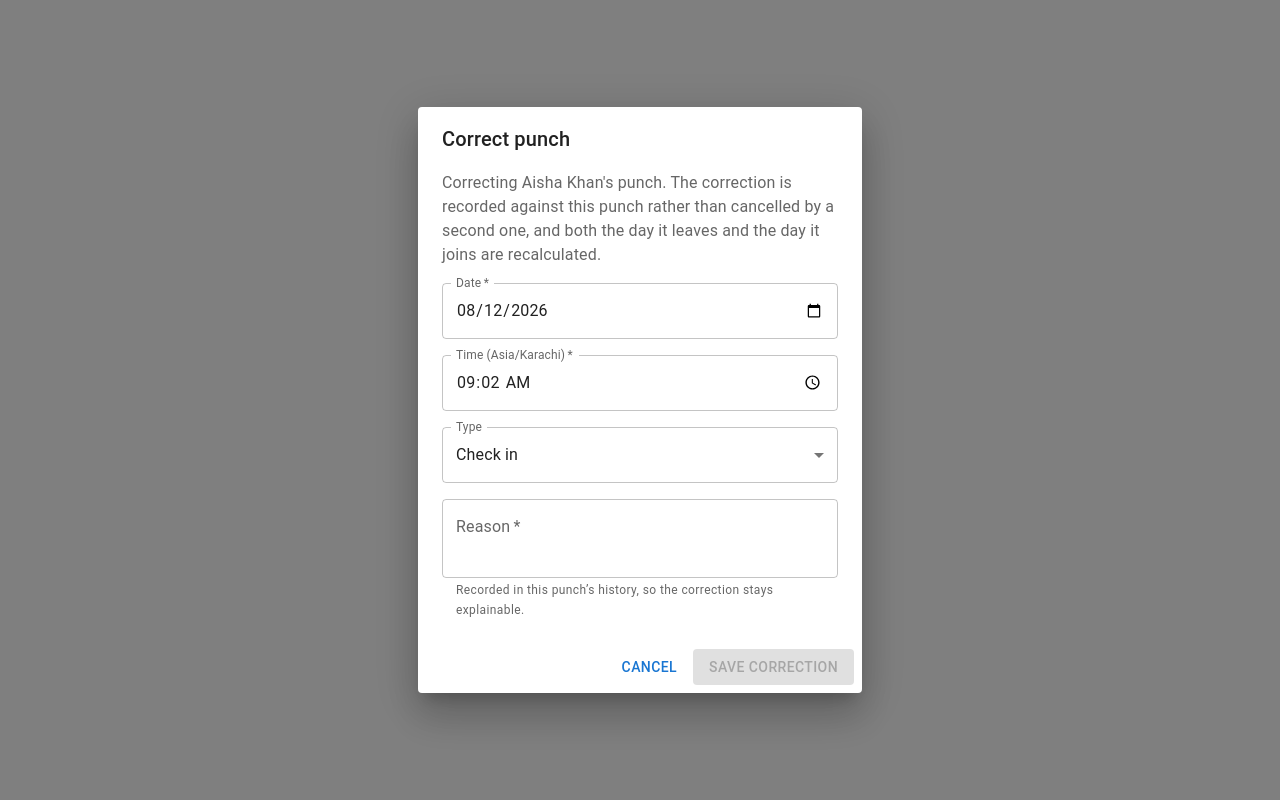
PunchDialog › requires a reason to edit an existing punch, and says why
The image size is (1280, 800).
Expected: the button "Save correction" is disabled, 693,649 -> 854,685
Type "Imported an hour out" into the text box labelled "Reason *" at (640, 538), box 456,515 -> 824,561
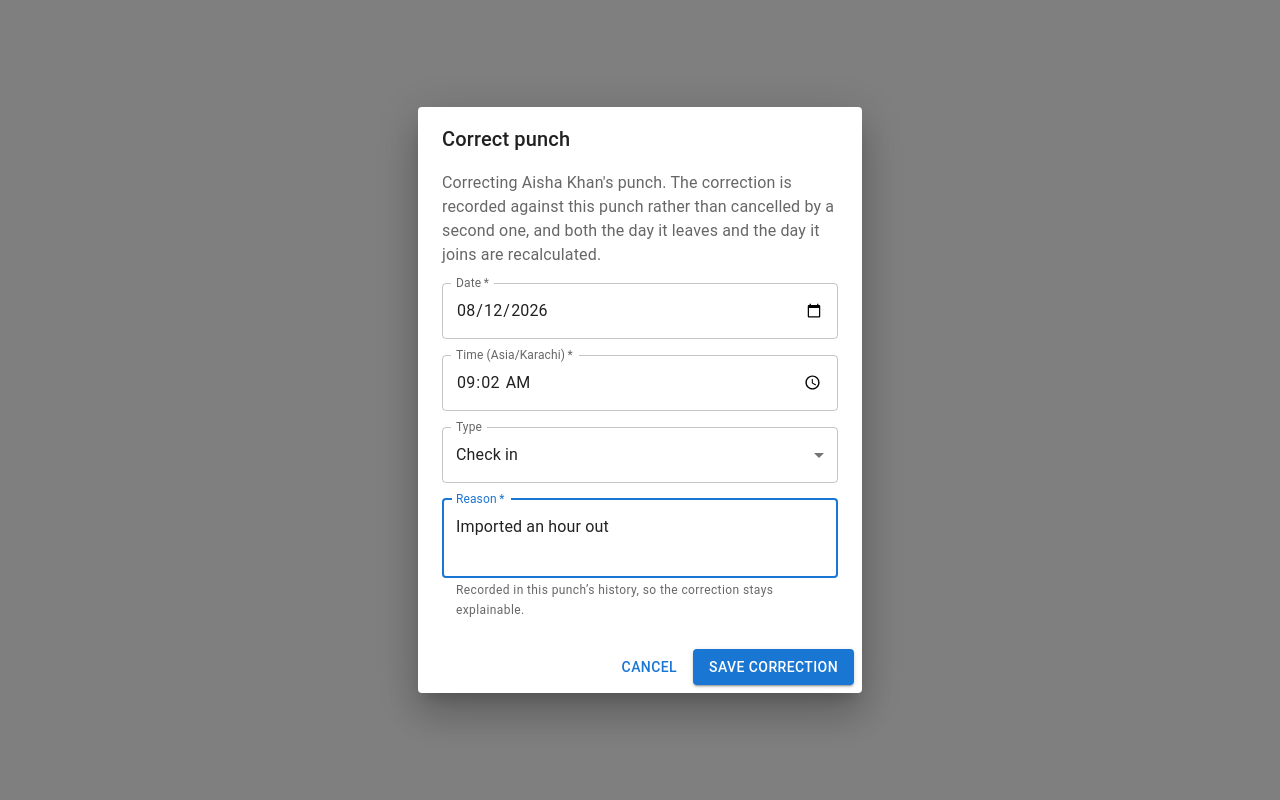
Now the button "Save correction" is enabled, box 693,649 -> 854,685
